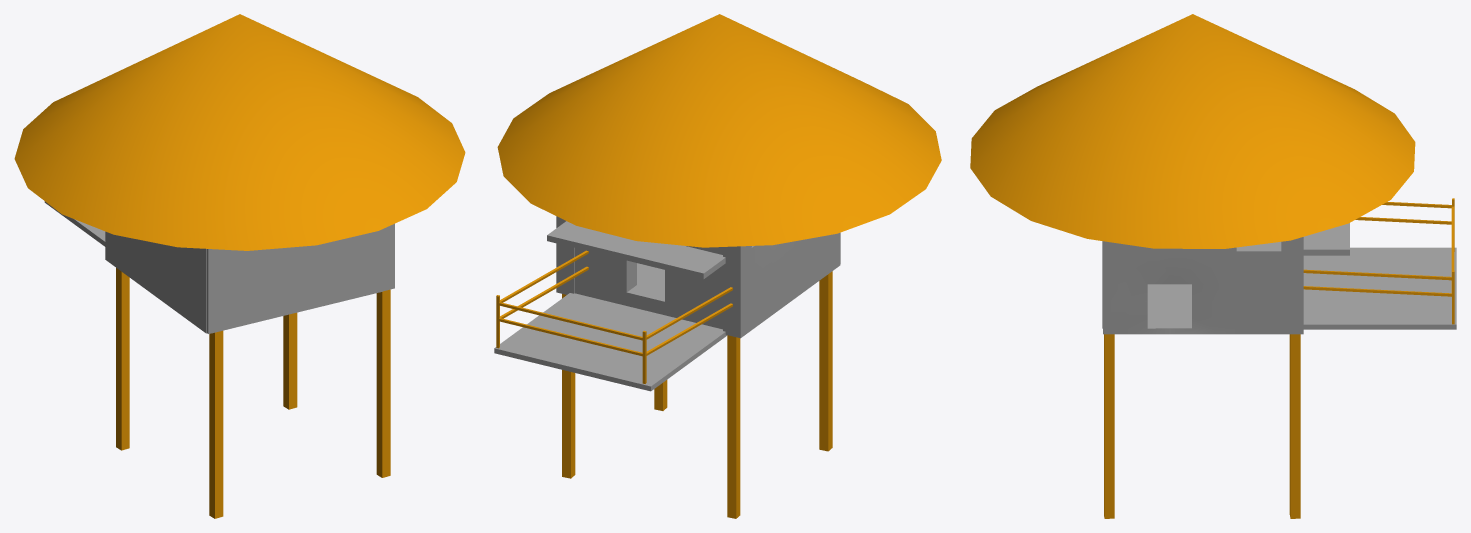
The model's file is obj_shack_uv.fbx.
The picture shows the model from 3 angles, left to right: view 1: azimuth 30°, elevation 25°; view 2: azimuth 150°, elevation 25°; view 3: azimuth 270°, elevation 25°; orthographic projection.
Visible parts, largest first — view 1: obj_shack_uv; view 2: obj_shack_uv; view 3: obj_shack_uv.
Part boxes in pixels (bbox=[...]): obj_shack_uv: bbox=[14, 14, 465, 518]; obj_shack_uv: bbox=[494, 14, 941, 518]; obj_shack_uv: bbox=[970, 14, 1456, 518].
Size of the model in its own units: 27.68 by 31.11 by 30.25.
